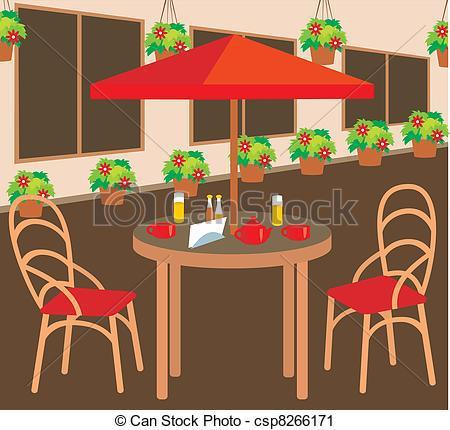bottle: (204, 193, 214, 223), (214, 193, 223, 218)
chair: (6, 196, 147, 396), (324, 182, 441, 394)
diningtable: (128, 206, 333, 403)
pottedplant: (296, 17, 350, 66), (85, 158, 140, 205), (5, 169, 57, 218), (344, 120, 396, 167), (159, 150, 210, 197), (227, 136, 278, 182), (400, 111, 448, 159), (287, 130, 337, 176), (142, 20, 193, 62), (1, 9, 28, 63), (424, 21, 450, 68)
